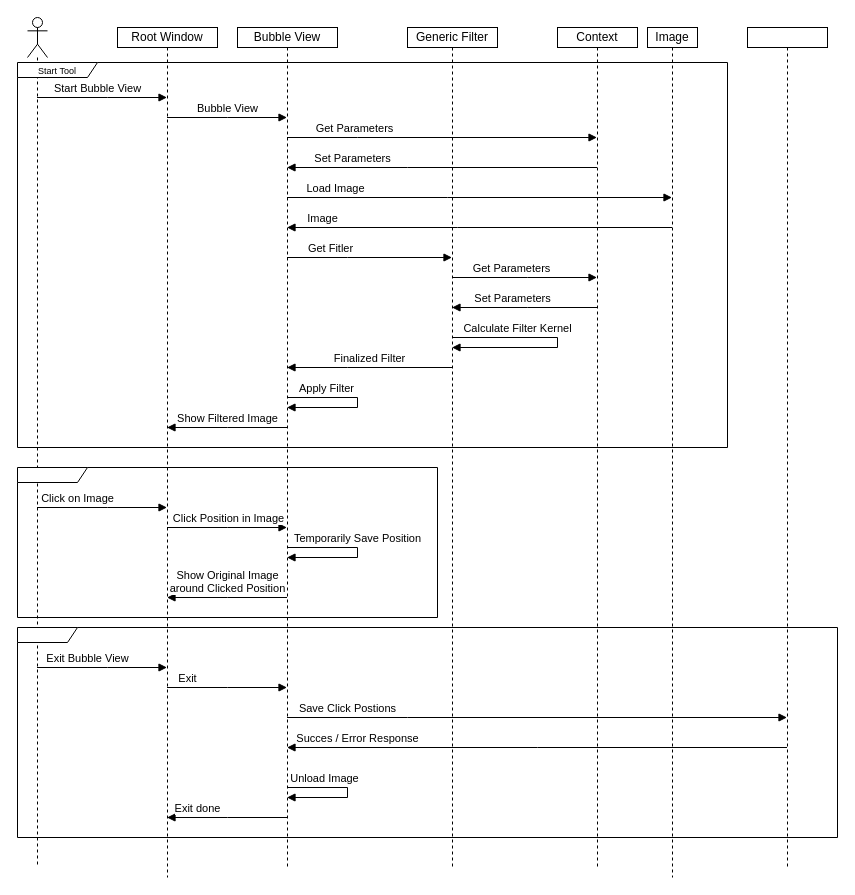
This 855x895 diagram has some shape labels left out. Each missing label, with the box of its shape:
Database: (746, 26, 828, 868)
End Tool: (16, 626, 838, 838)
Use Tool: (16, 466, 438, 618)
